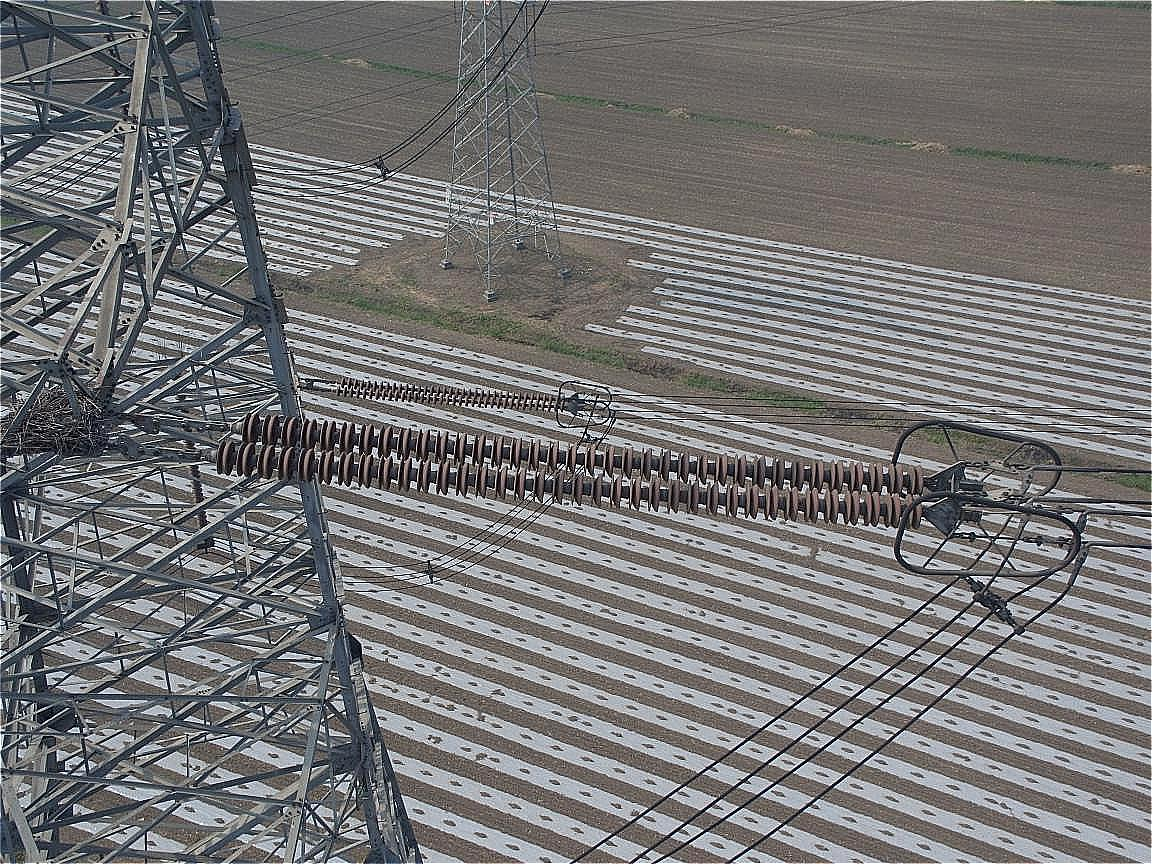insultor1: (317, 369, 590, 418)
insultor2: (147, 384, 940, 539)
